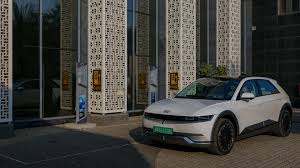Honda Ioniq: (139, 73, 295, 156)
